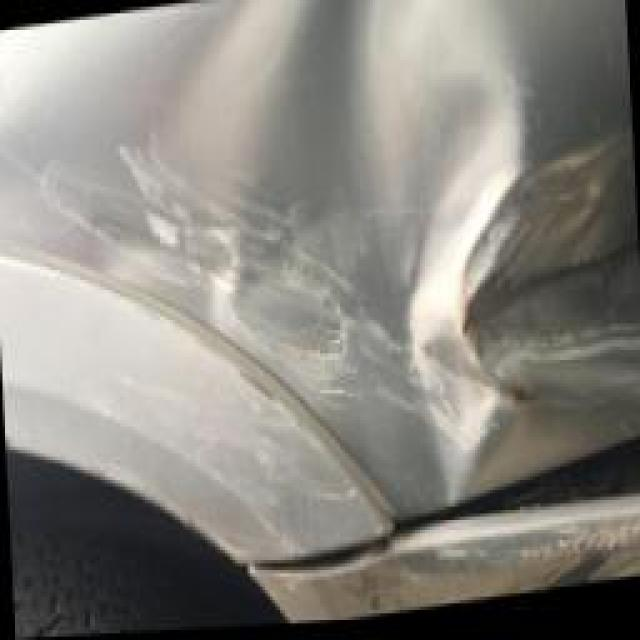Fender: (0, 0, 640, 580)
